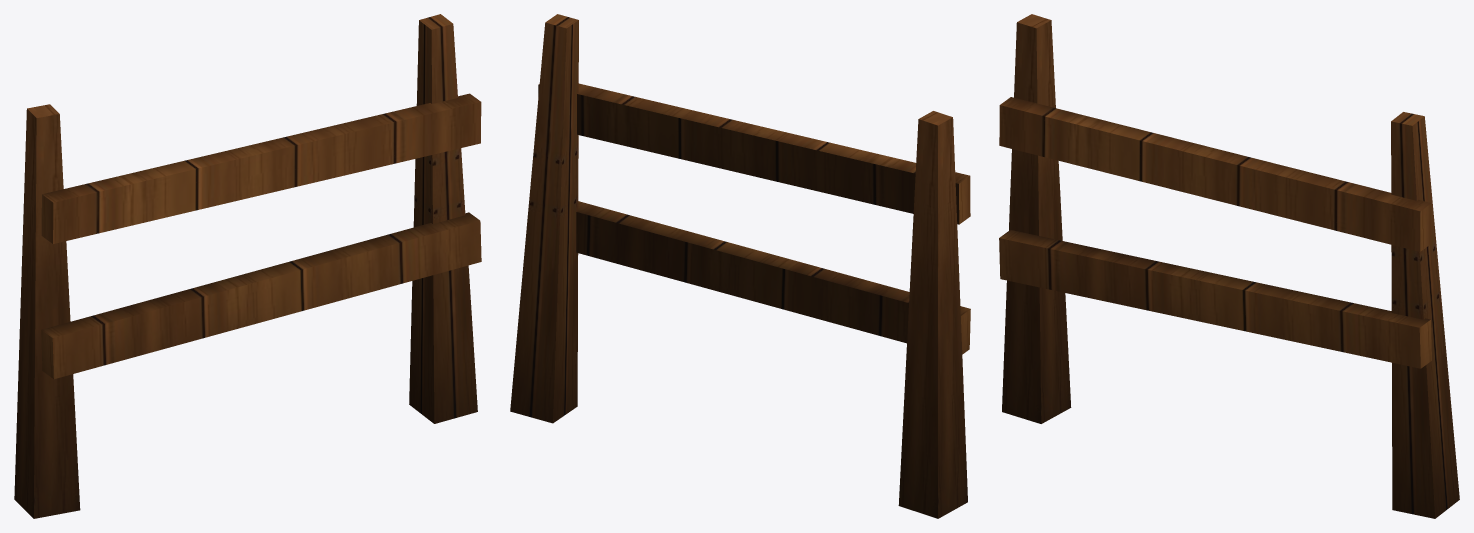
File: town_fence.glb
The picture shows the model from 3 angles, left to right: view 1: azimuth 30°, elevation 25°; view 2: azimuth 150°, elevation 25°; view 3: azimuth 330°, elevation 25°; orthographic projection.
Visible parts, largest first — view 1: town_fence; view 2: town_fence; view 3: town_fence.
Part boxes in pixels (x1,y1,x2,y2): town_fence: [14, 14, 481, 518]; town_fence: [510, 14, 970, 518]; town_fence: [999, 14, 1459, 518].
Bounding box in the file's own units: 1.12 × 0.9541 × 0.1565.
Materials: 1 (1 with a texture image).
